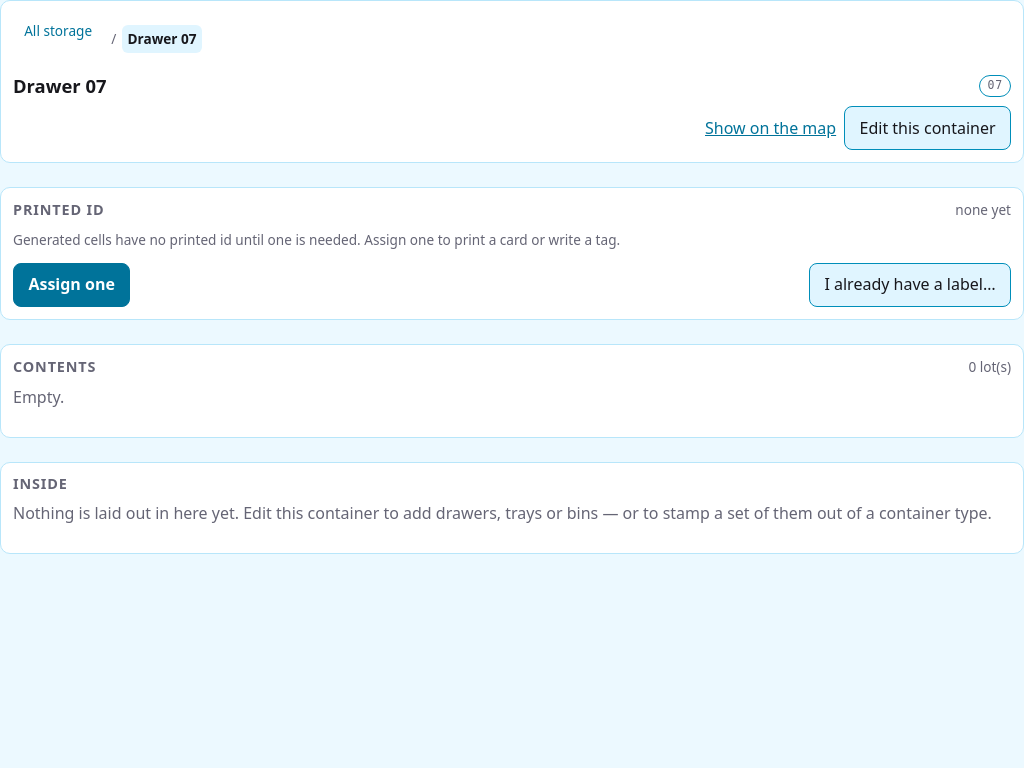
it: the printed id › mints one, sending no code so the server chooses
Step 1. Click the button "Assign one" → click(72, 285), box [13,263,130,307]
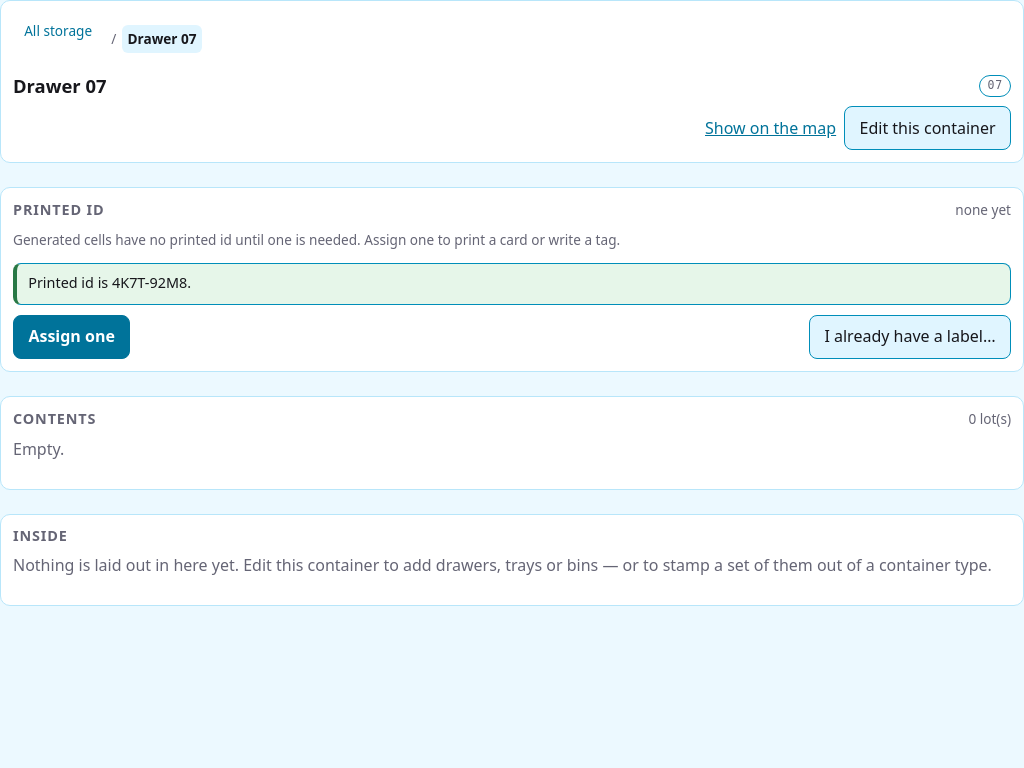
Now the text "Printed id is 4K7T-92M8." is shown, box [13,263,1011,305]
